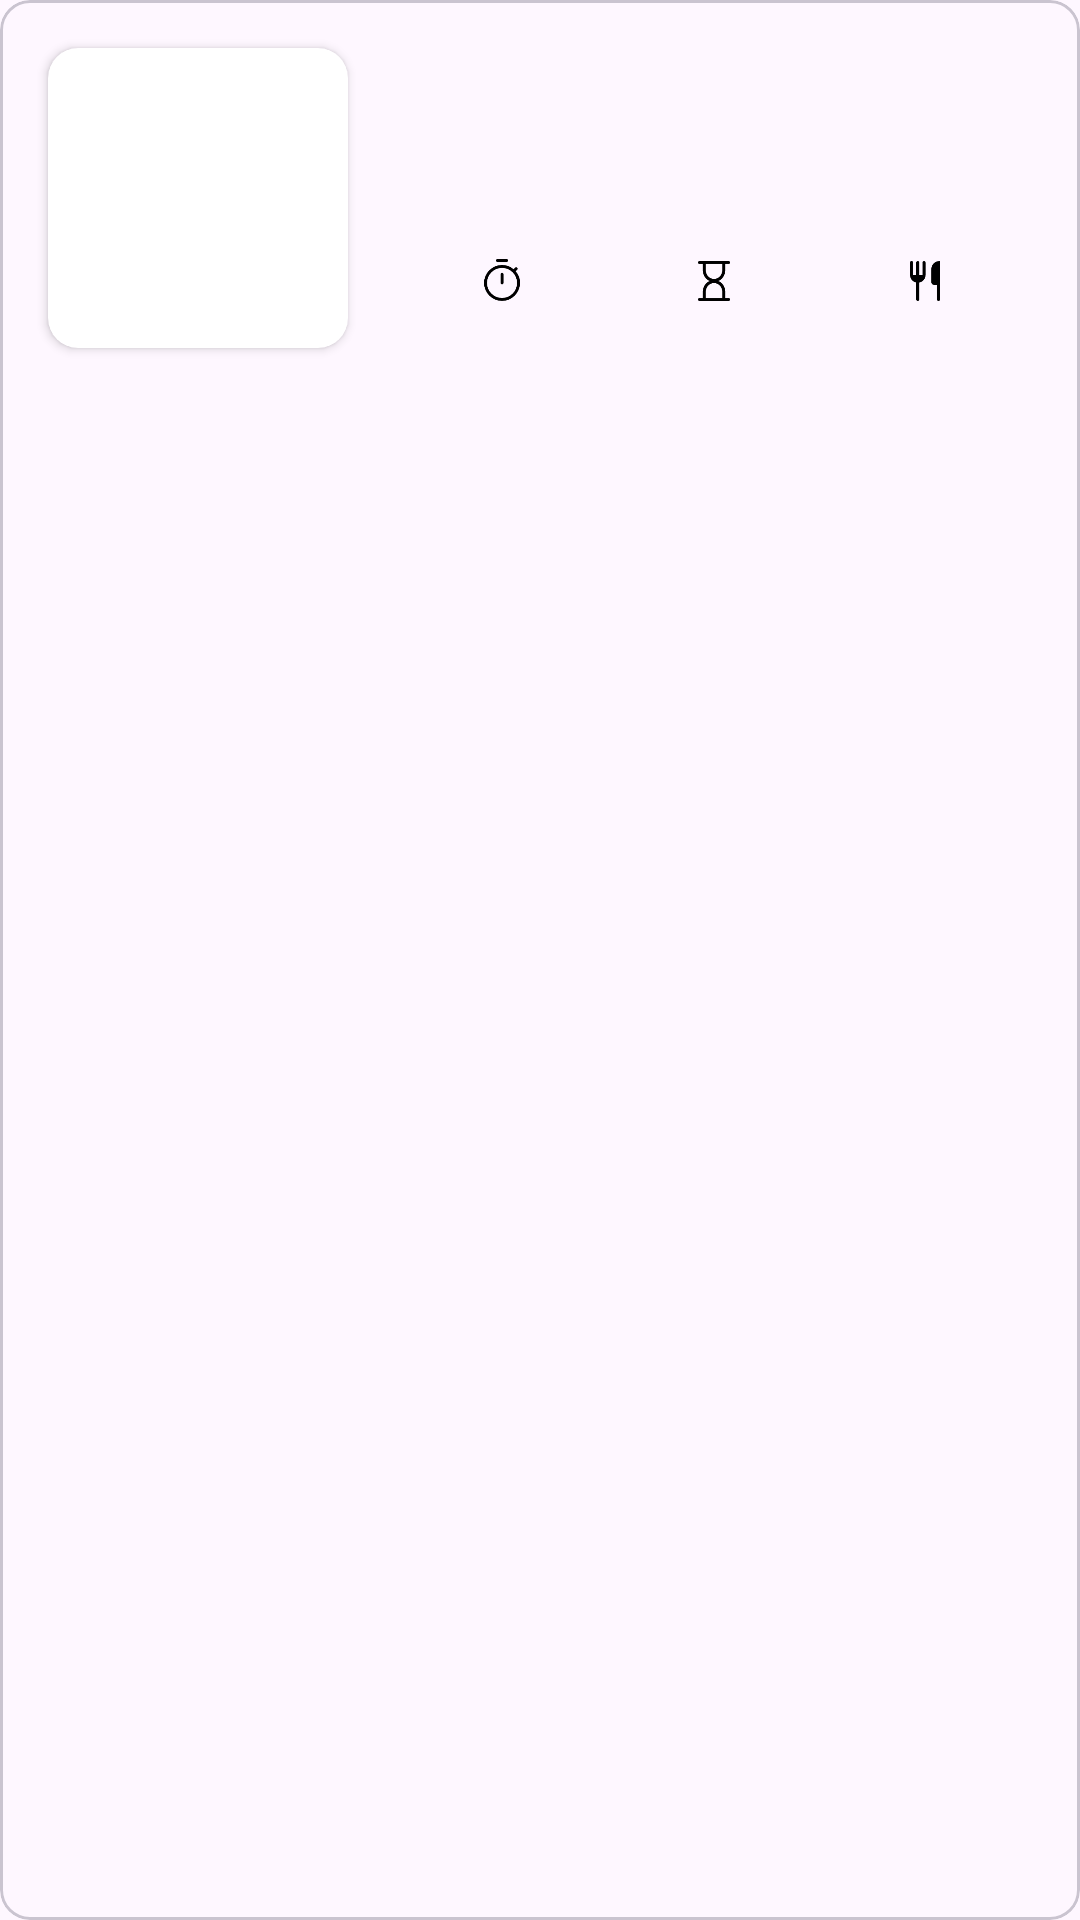

Icons on this 1080*1920 Android screen, each with its box as {"left": x1, "top": y1, "right": x2, "bottom": y2}:
servingsize: {"left": 910, "top": 261, "right": 940, "bottom": 301}
